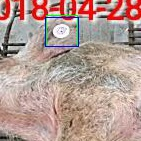text: (46, 15, 77, 46)
